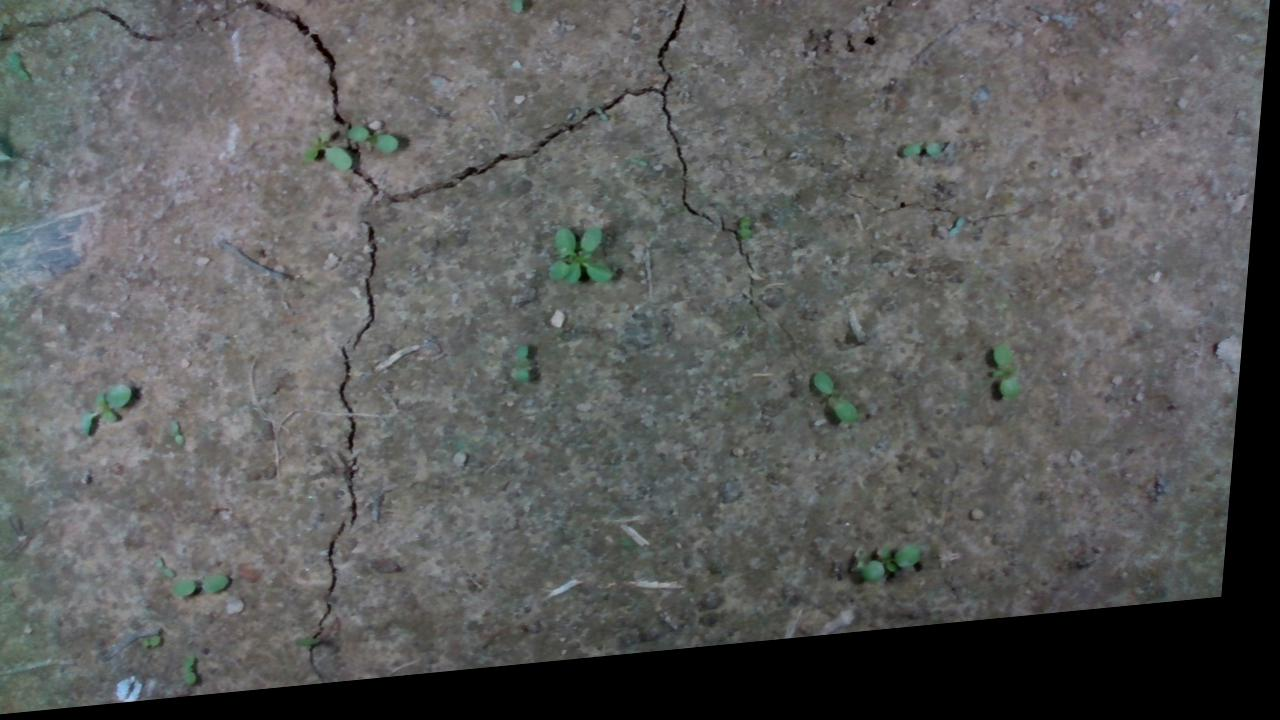weed: (811, 381, 881, 450), (83, 384, 140, 440), (990, 362, 1035, 426), (347, 128, 403, 164), (181, 575, 242, 602), (515, 351, 546, 399), (894, 152, 953, 173), (172, 420, 206, 456), (161, 556, 192, 583), (191, 657, 212, 691), (501, 0, 537, 18), (741, 229, 762, 256)
